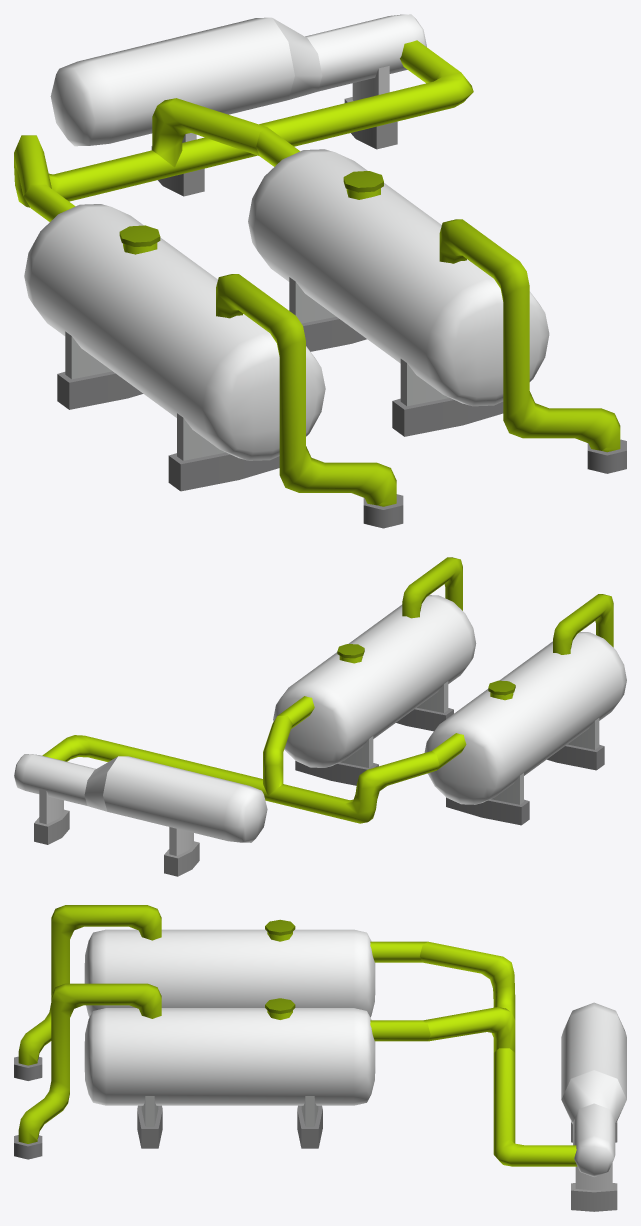
The model's file is reservfbx.fbx.
3 renders of one model, top to bottom at view 1: azimuth 30°, elevation 25°; view 2: azimuth 150°, elevation 25°; view 3: azimuth 270°, elevation 25°, orthographic. The views are drawn at different scales.
Parts seen in each view (by area): view 1: gas_refining_02.001, gas_refining_03.001; view 2: gas_refining_02.001, gas_refining_03.001; view 3: gas_refining_02.001, gas_refining_03.001.
Part boxes in pixels (box(x1,y1,x2,y2)): gas_refining_02.001: box(14, 14, 473, 528); gas_refining_03.001: box(152, 98, 626, 473); gas_refining_02.001: box(14, 594, 626, 876); gas_refining_03.001: box(263, 557, 476, 795); gas_refining_02.001: box(14, 905, 626, 1211); gas_refining_03.001: box(14, 983, 515, 1159).
Size of the model in its own units: 69.68 by 17.94 by 52.53.
